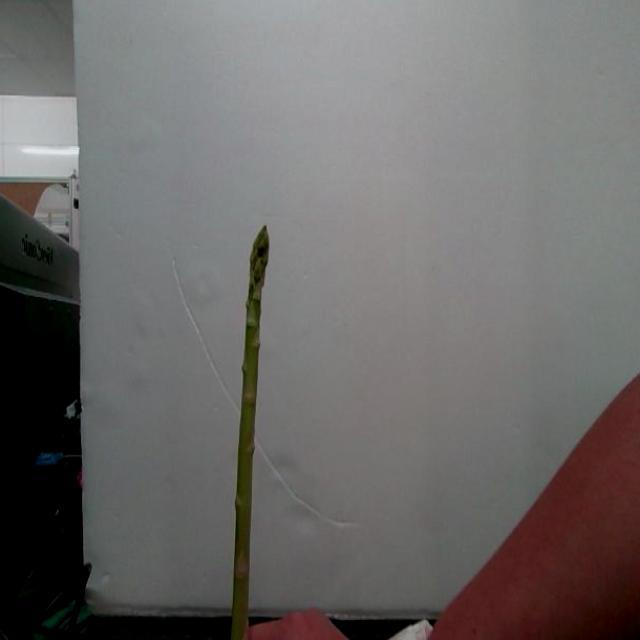aspargus: (231, 226, 271, 640)
